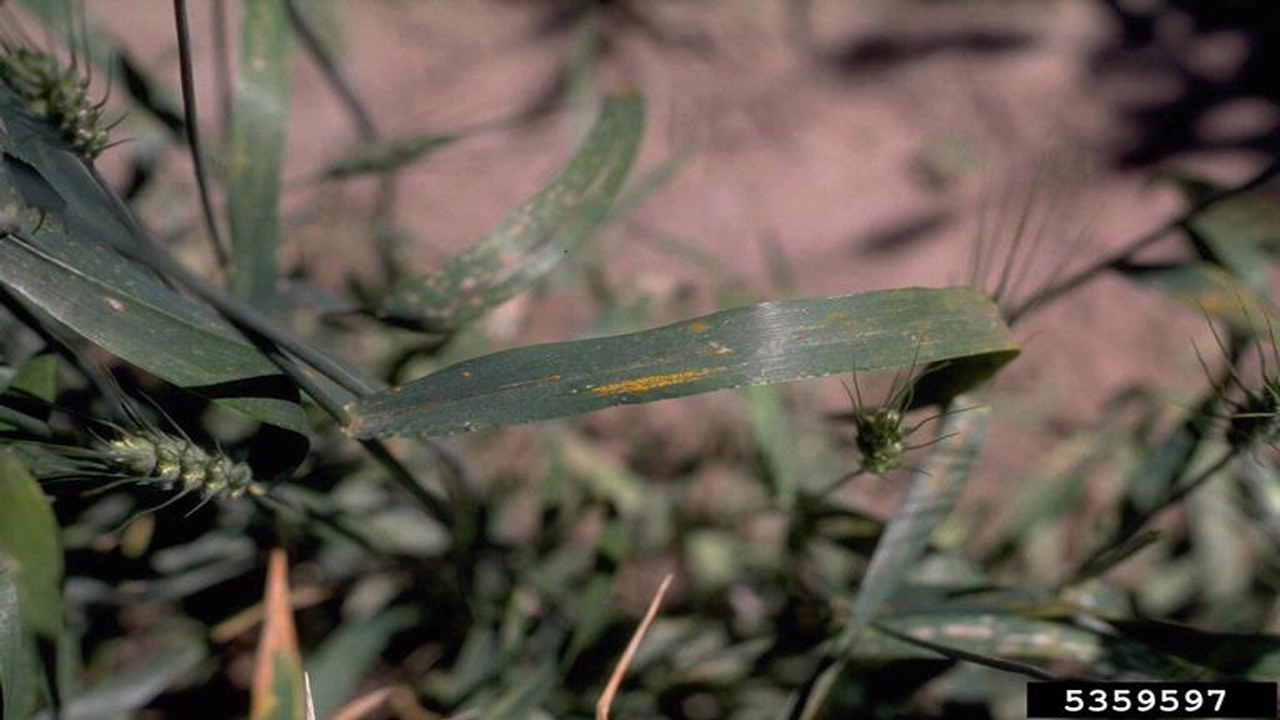stripe_rust: (565, 355, 752, 404)
